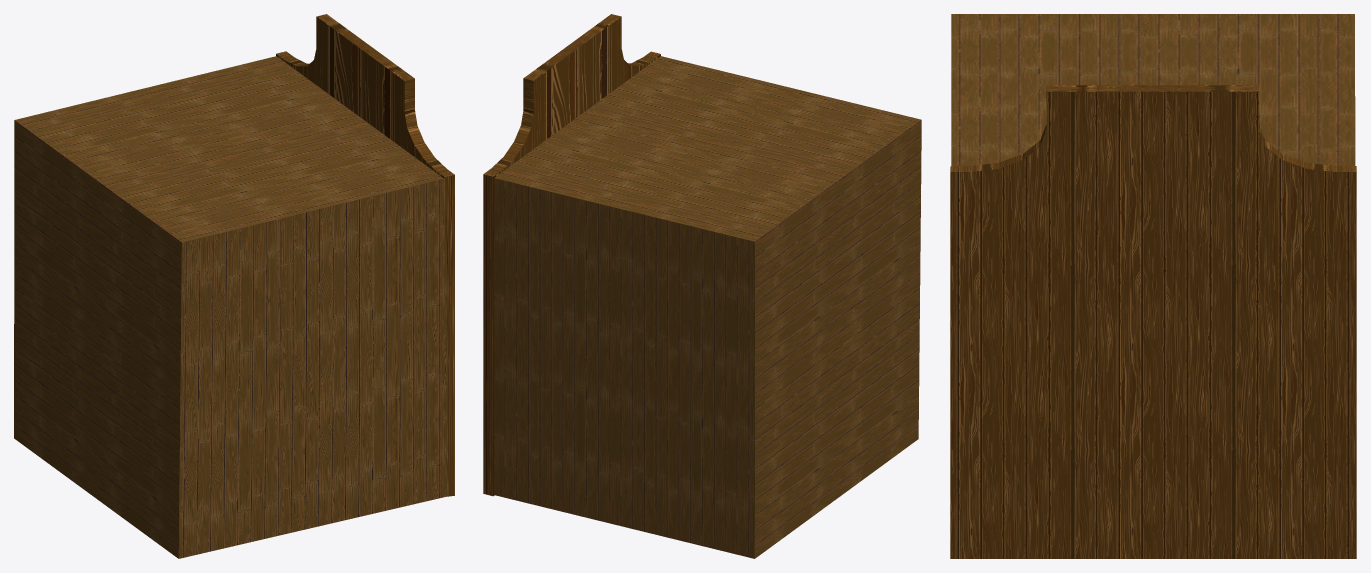
The model's file is SM_16_wood.fbx.
3 renders of one model, left to right at view 1: azimuth 30°, elevation 25°; view 2: azimuth 150°, elevation 25°; view 3: azimuth 270°, elevation 25°, orthographic. The views are drawn at different scales.
Parts seen in each view (by area): view 1: Cube.104; view 2: Cube.104; view 3: Cube.104.
Part boxes in pixels (x1,y1,x2,y2): Cube.104: (14,14,454,558); Cube.104: (483,14,921,558); Cube.104: (950,14,1356,558).
Bounding box in the file's own units: 6.77 × 9.21 × 7.26.
